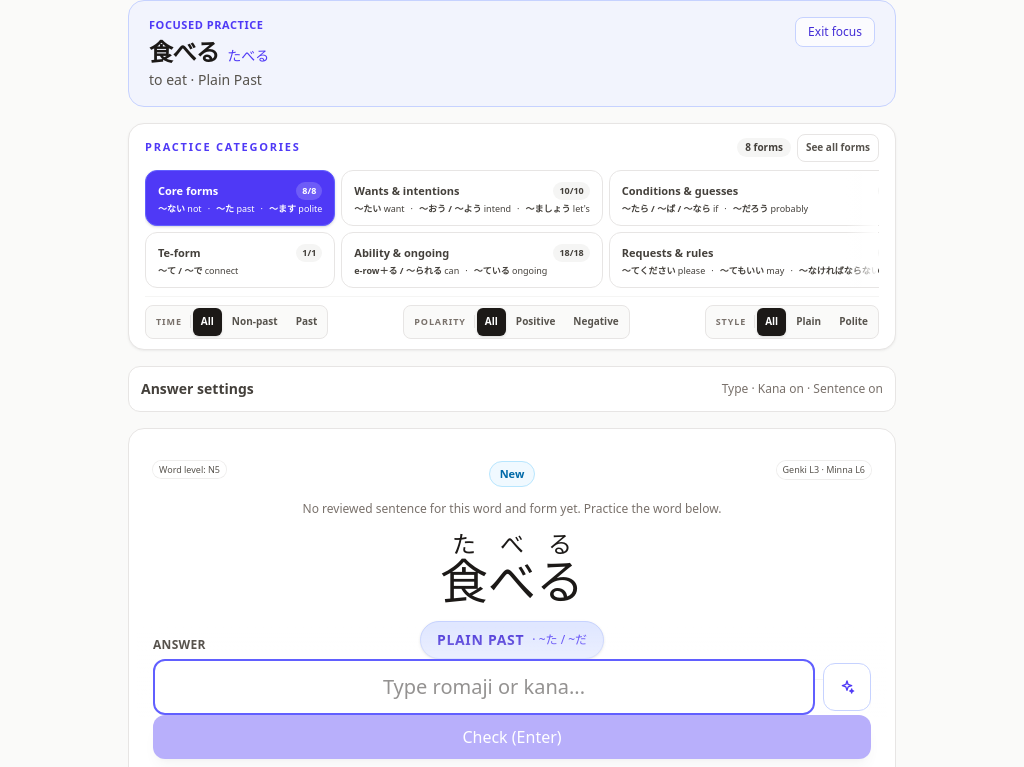
Test: StudyView continuous Practice startup › freezes ordinary Practice if reviewed context arrives after the grace window
Expected: the text "No reviewed sentence for this word and form yet" is shown, [303,500,721,517]
Type "a" into the field with placeholder "Type romaji or kana..." at (484, 686), box [153,658,815,714]
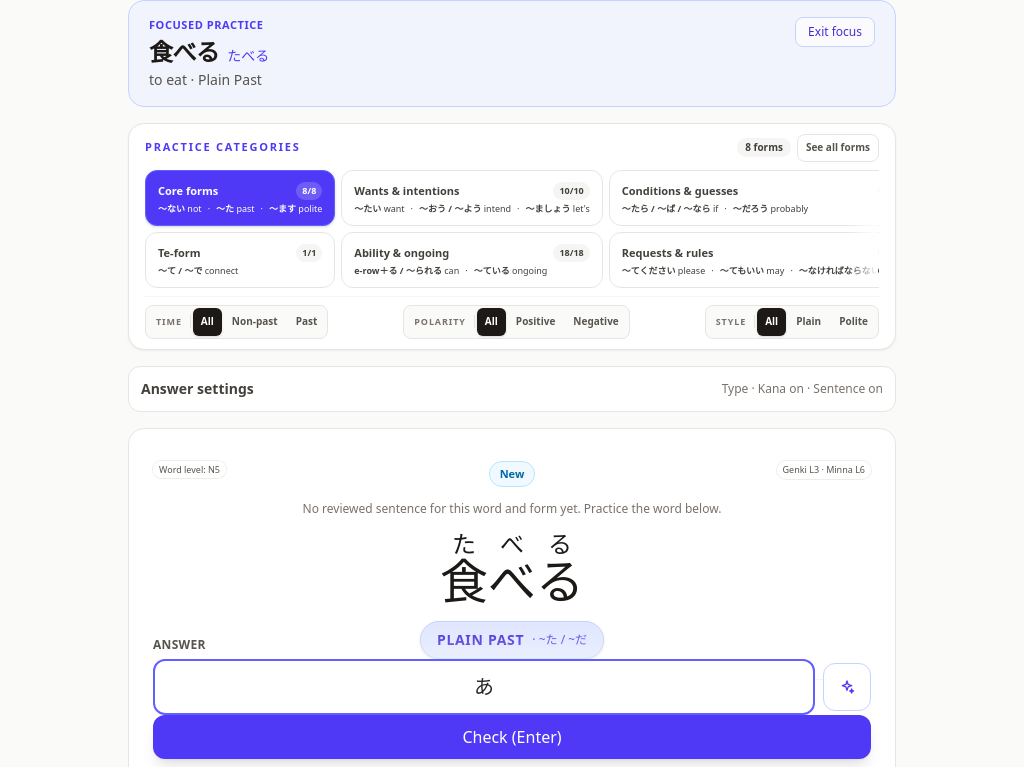
Expected: the field with placeholder "Type romaji or kana..." holds "あ", [153,658,815,714]
